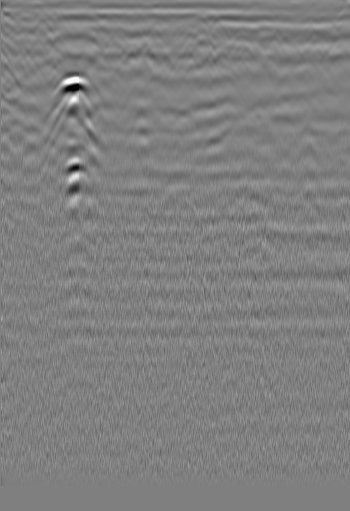가스: (50, 157, 104, 191)
상수: (311, 27, 331, 47)
오수: (11, 24, 31, 44)
우수: (131, 38, 151, 58)
